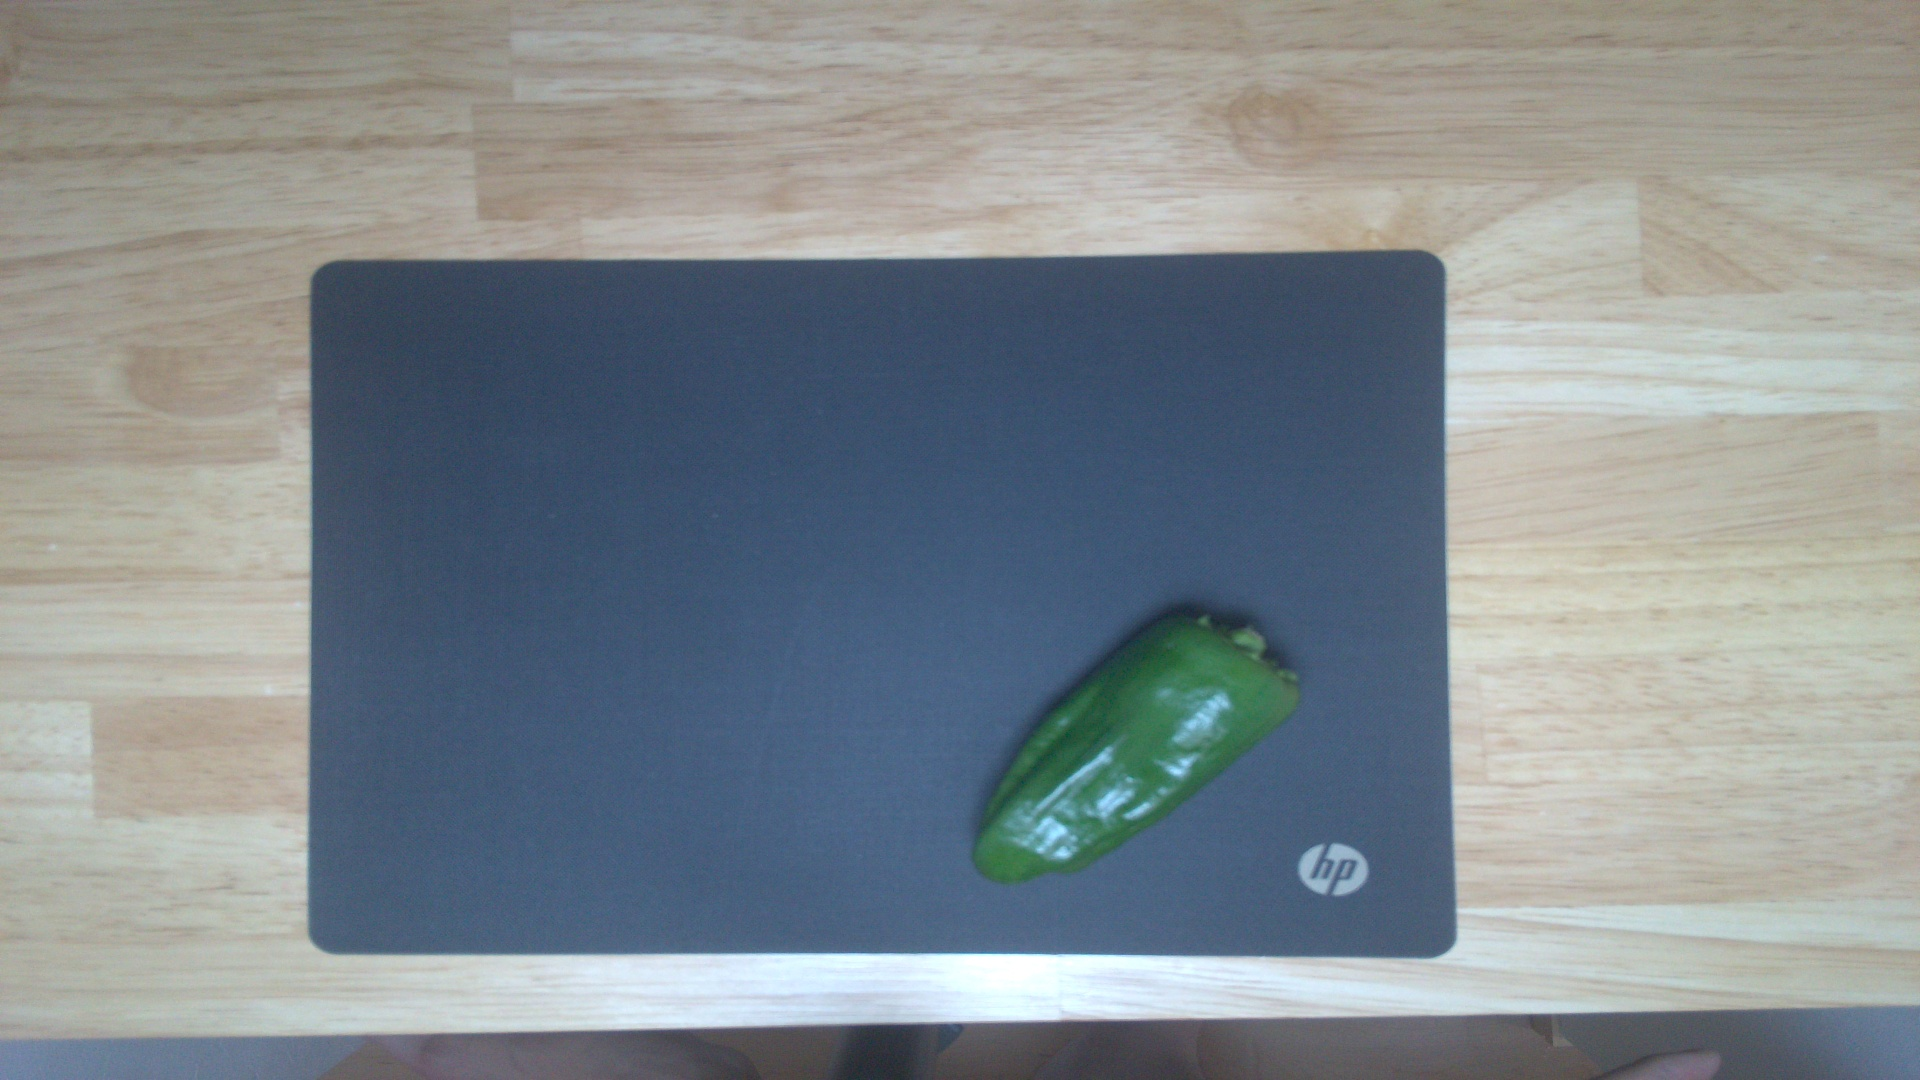Piman: (964, 600, 1304, 887)
